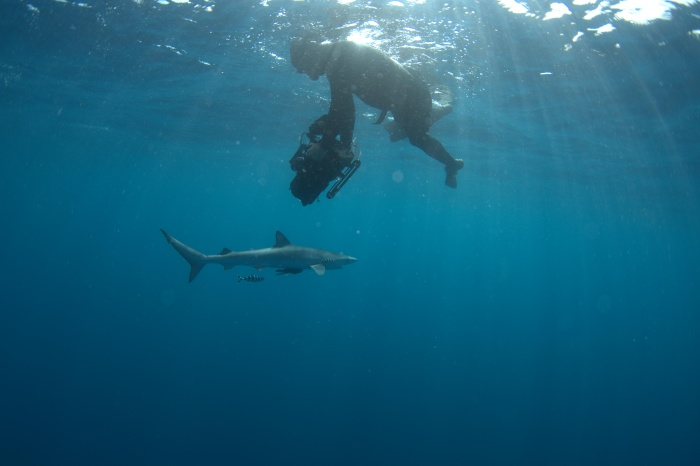Azul: (130, 212, 472, 399), (160, 216, 376, 302)
